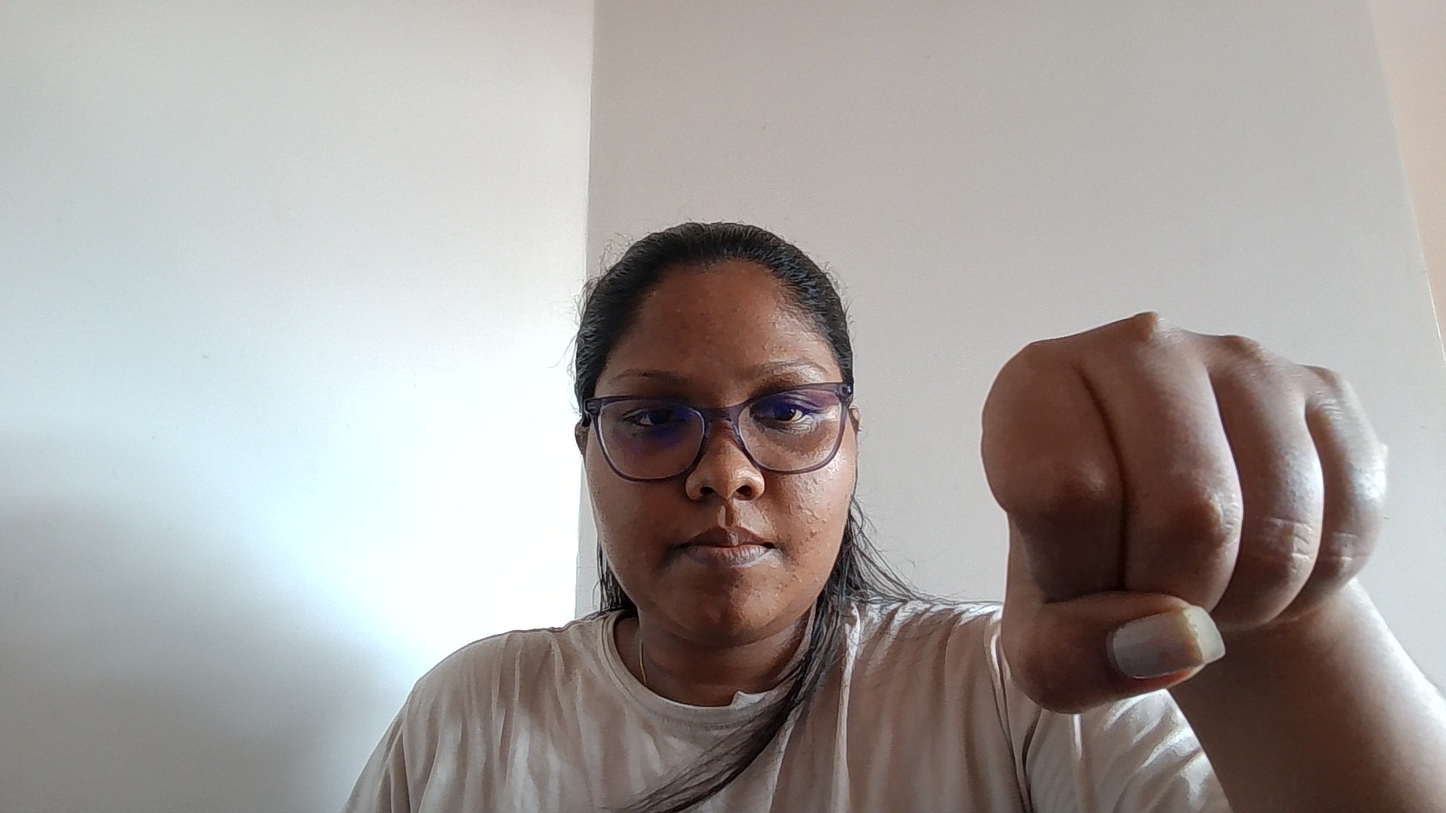Yes: (981, 228, 1421, 729)
